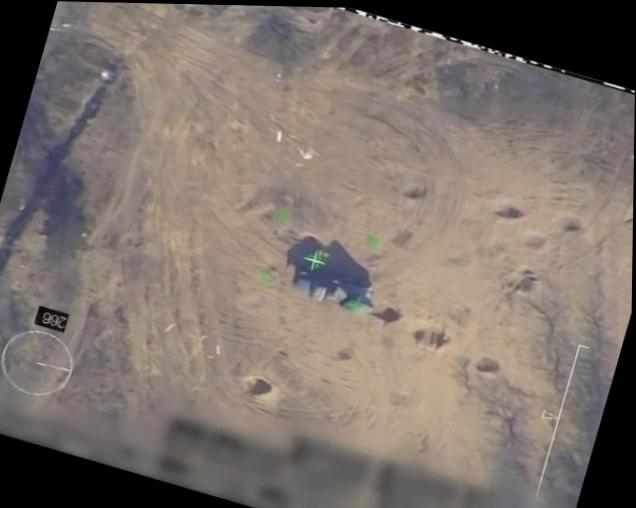rszo: (288, 260, 381, 320)
